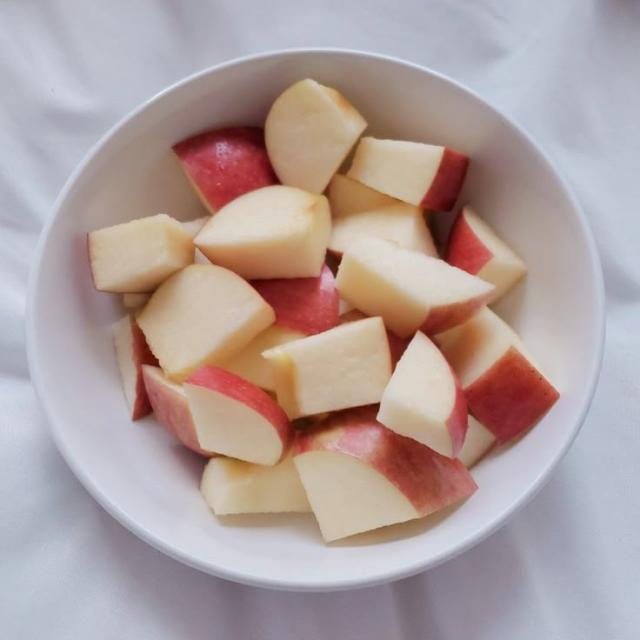apple: (293, 406, 476, 541), (434, 308, 559, 443), (137, 265, 274, 380), (336, 237, 493, 337), (194, 186, 331, 279), (264, 318, 391, 418), (265, 80, 366, 193), (377, 333, 467, 457), (184, 367, 293, 465), (174, 127, 277, 213), (347, 138, 468, 211), (88, 214, 193, 293), (446, 207, 526, 301), (143, 366, 217, 457), (200, 456, 311, 515), (251, 265, 339, 335), (328, 202, 438, 257), (220, 325, 304, 391), (113, 316, 157, 419), (327, 174, 399, 218), (458, 415, 495, 468), (387, 330, 411, 370), (387, 330, 410, 370), (182, 216, 211, 239), (182, 216, 211, 238), (340, 308, 368, 324), (123, 294, 151, 309), (339, 300, 354, 316)
